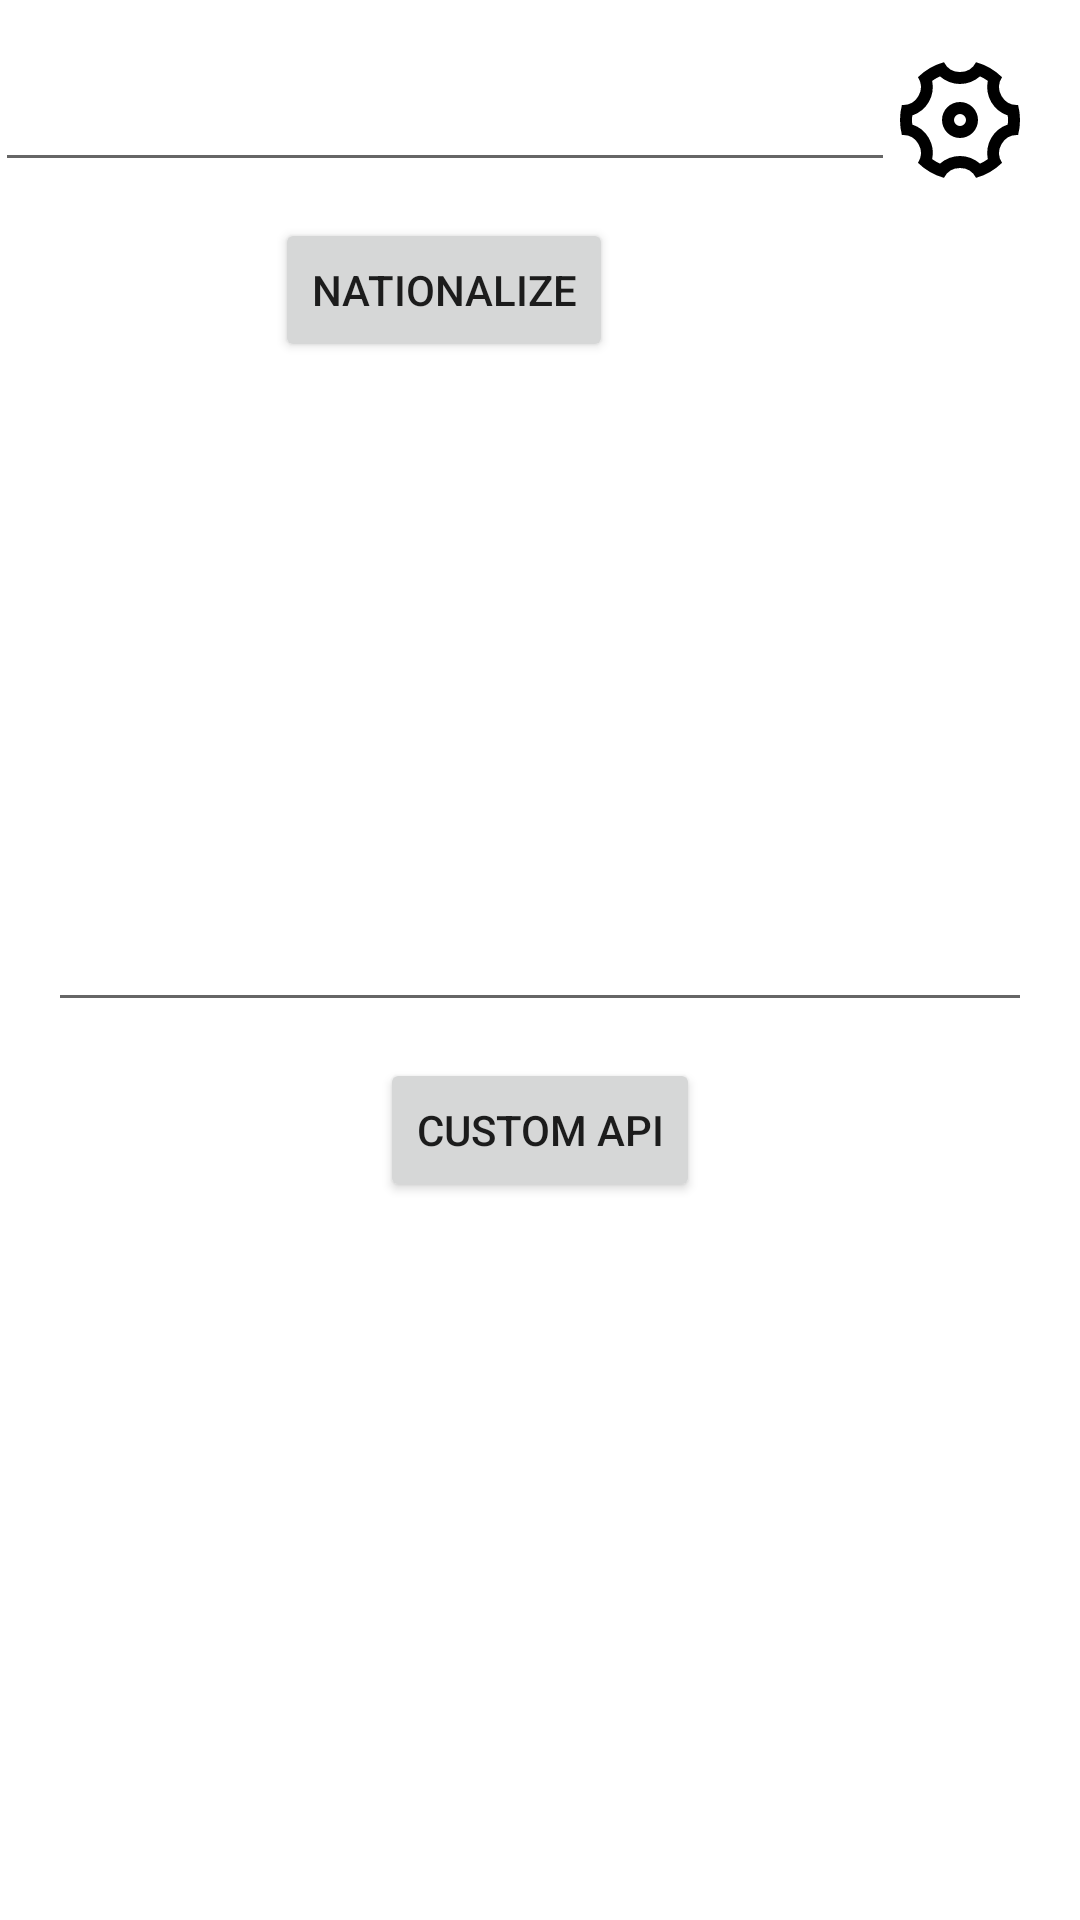

Where to tap for icons on this 1080 × 1920 app screen, as (x,y):
settings: (960,120)
